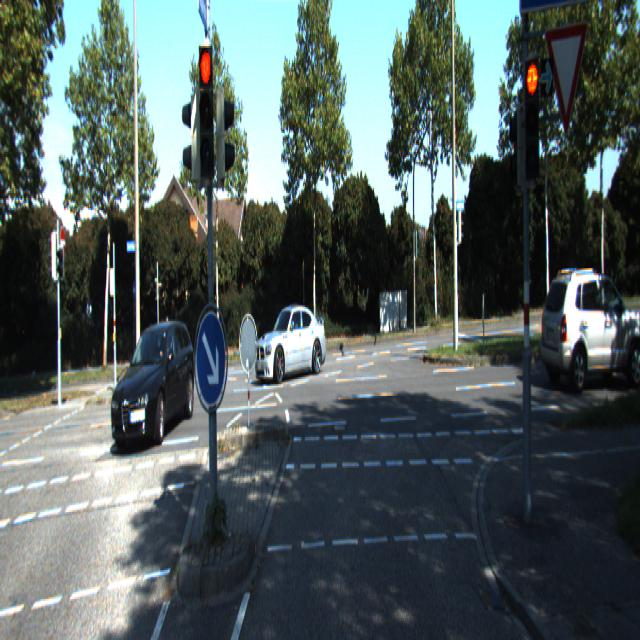Car: (539, 267, 639, 390), (108, 320, 198, 453), (253, 301, 328, 387)
